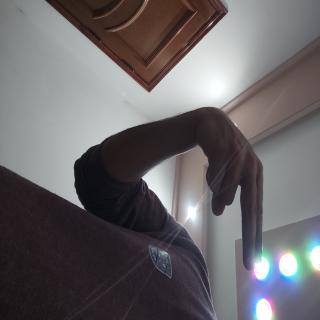AYN: (69, 68, 229, 171)
